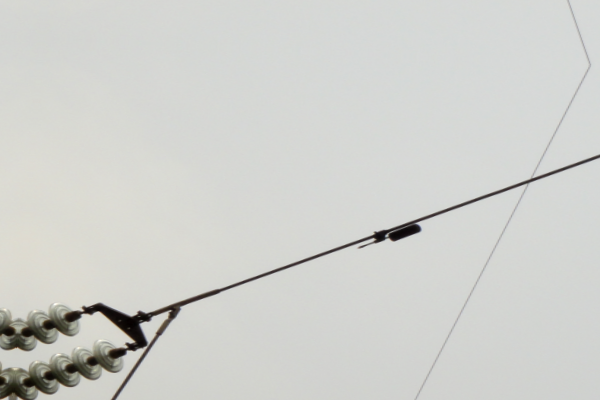damper_defect: (354, 221, 423, 251)
